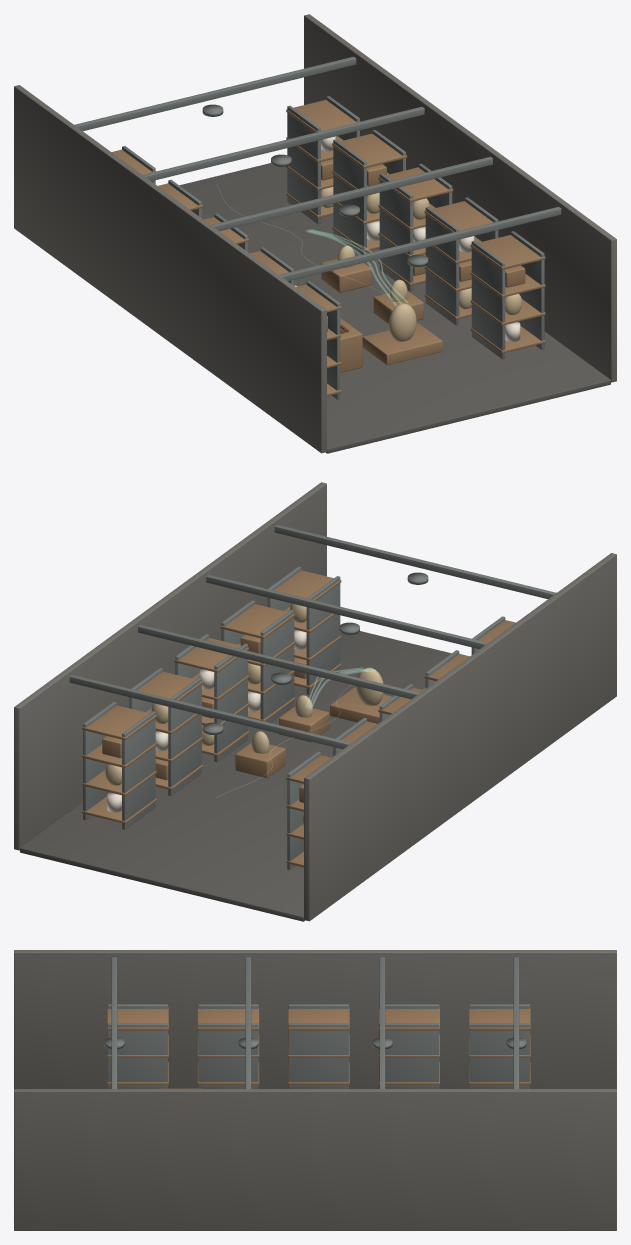
Rendered from aerosense_01_warehouse_v2.glb.
The picture shows the model from 3 angles, top to bottom: view 1: azimuth 30°, elevation 25°; view 2: azimuth 150°, elevation 25°; view 3: azimuth 270°, elevation 25°; orthographic projection. The views are drawn at different scales.
Visible parts, largest first — view 1: Wall, WarehouseFloor, Wall.001, Upright_1_0_-0.66, Upright_1_1_-0.66, Upright_1_2_-0.66, Upright_1_3_-0.66, CeilingBeam.003, CeilingBeam, CeilingBeam.001, CeilingBeam.002, Upright_1_4_-0.66 (+13 smaller); view 2: Wall, WarehouseFloor, Wall.001, Upright_1_4_-0.66, Upright_1_3_-0.66, Upright_1_0_-0.66, Upright_1_1_-0.66, Upright_1_2_-0.66, CeilingBeam, CeilingBeam.002, CeilingBeam.003, CeilingBeam.001 (+12 smaller); view 3: Wall.001, Wall, Upright_-1_2_0.66, Upright_-1_3_0.66, Upright_-1_0_0.66, Upright_-1_4_0.66, Upright_-1_1_0.66, ShelfPlank.011, ShelfPlank.007, ShelfPlank.003, ShelfPlank.015, ShelfPlank.019 (+4 smaller).
Part boxes in pixels (box(x1,y1,x2,y2)): Wall: box(14, 85, 326, 453); WarehouseFloor: box(179, 163, 610, 453); Wall.001: box(304, 14, 616, 382); Upright_1_0_-0.66: box(471, 240, 505, 359); Upright_1_1_-0.66: box(425, 207, 459, 325); Upright_1_2_-0.66: box(379, 173, 413, 291); Upright_1_3_-0.66: box(333, 139, 366, 254); CeilingBeam.003: box(74, 56, 356, 130); CeilingBeam: box(279, 206, 561, 281); CeilingBeam.001: box(211, 156, 492, 231); CeilingBeam.002: box(143, 106, 424, 181); Upright_1_4_-0.66: box(287, 105, 320, 224); Wall: box(304, 553, 616, 921); WarehouseFloor: box(20, 631, 451, 921); Wall.001: box(14, 482, 326, 850); Upright_1_4_-0.66: box(122, 711, 155, 829); Upright_1_3_-0.66: box(168, 677, 201, 795); Upright_1_0_-0.66: box(306, 576, 340, 694); Upright_1_1_-0.66: box(260, 610, 294, 722); Upright_1_2_-0.66: box(214, 643, 247, 762); CeilingBeam: box(274, 524, 556, 598); CeilingBeam.002: box(138, 624, 419, 699); CeilingBeam.003: box(69, 674, 351, 749); CeilingBeam.001: box(206, 574, 487, 649); Wall.001: box(14, 1089, 616, 1230); Wall: box(14, 950, 616, 1088); Upright_-1_2_0.66: box(288, 1023, 348, 1088); Upright_-1_3_0.66: box(379, 1023, 439, 1088); Upright_-1_0_0.66: box(107, 1023, 167, 1088); Upright_-1_4_0.66: box(469, 1023, 529, 1088); Upright_-1_1_0.66: box(198, 1023, 258, 1088); ShelfPlank.011: box(288, 1007, 349, 1030); ShelfPlank.007: box(197, 1007, 259, 1030); ShelfPlank.003: box(107, 1007, 168, 1030); ShelfPlank.015: box(378, 1007, 439, 1030); ShelfPlank.019: box(469, 1007, 530, 1030).
Size of the model in its own units: 10 by 4.66 by 18.
